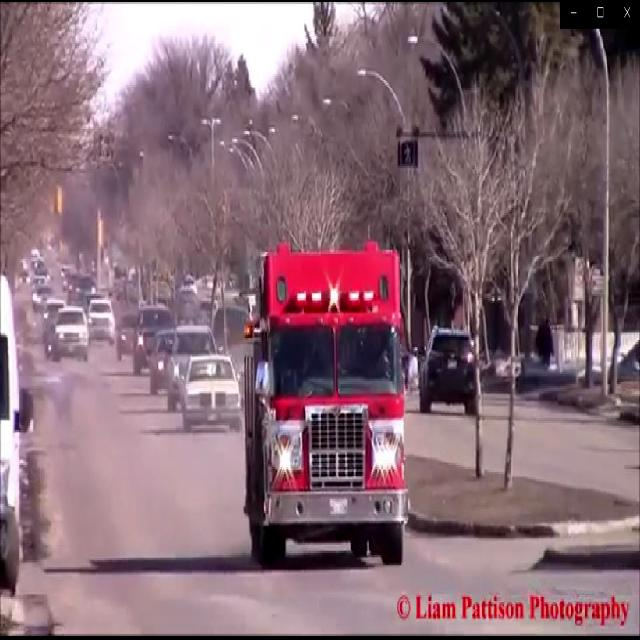emergency: (237, 230, 420, 570)
